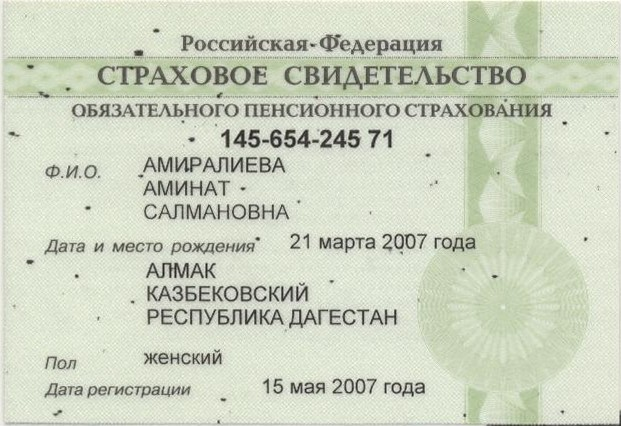text: (142, 259, 406, 330), (220, 123, 396, 151), (289, 230, 482, 255), (261, 376, 431, 401), (142, 197, 294, 222), (145, 152, 291, 178), (142, 177, 231, 201), (139, 347, 226, 368)
